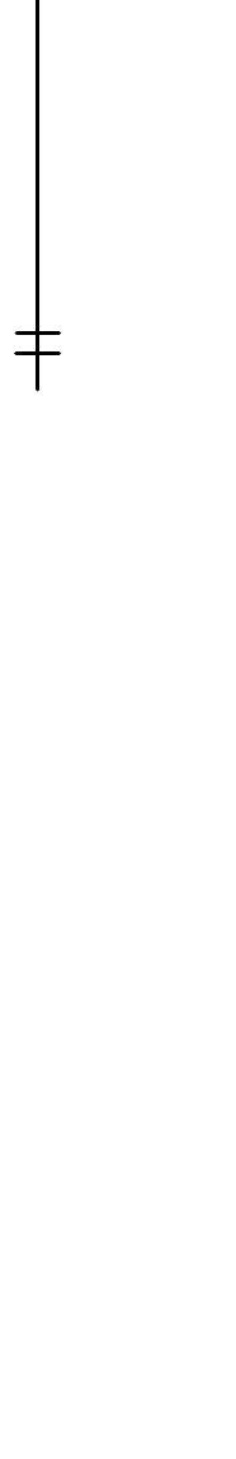115_buffer: (14, 331, 61, 355)
